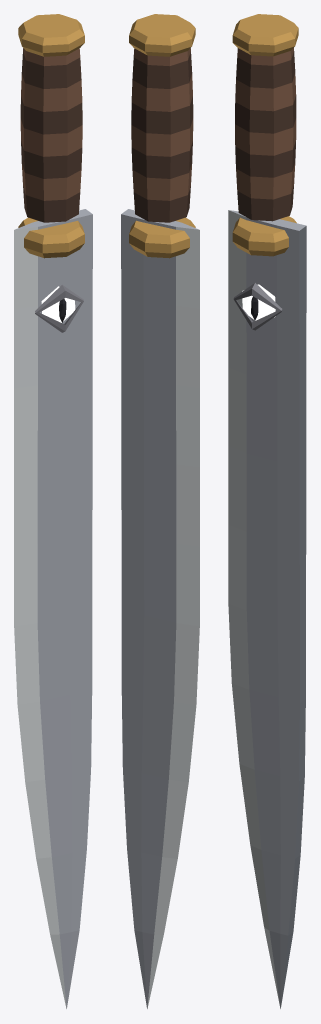
The model's file is blade-kept-knife.glb.
The picture shows the model from 3 angles, left to right: view 1: azimuth 30°, elevation 25°; view 2: azimuth 150°, elevation 25°; view 3: azimuth 330°, elevation 25°; orthographic projection.
Visible parts, largest first — view 1: blade-kept-knife, blink_eye; view 2: blade-kept-knife; view 3: blade-kept-knife, blink_eye.
Part boxes in pixels (<box>): blade-kept-knife: <box>14,14,92,1008</box>; blink_eye: <box>35,285,83,332</box>; blade-kept-knife: <box>121,14,199,1008</box>; blade-kept-knife: <box>228,14,306,1008</box>; blink_eye: <box>233,283,282,330</box>.
Bounding box in the file's own units: 0.0832 × 1.04 × 0.0659.
